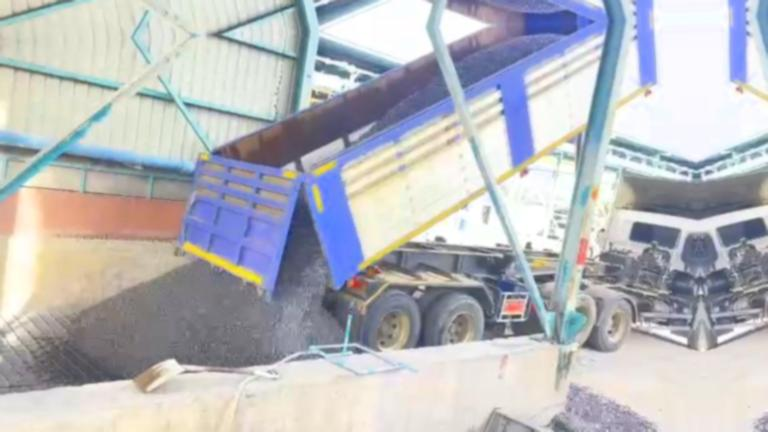gravel: (71, 198, 342, 377), (456, 33, 563, 87), (362, 75, 448, 138), (552, 384, 658, 431)
